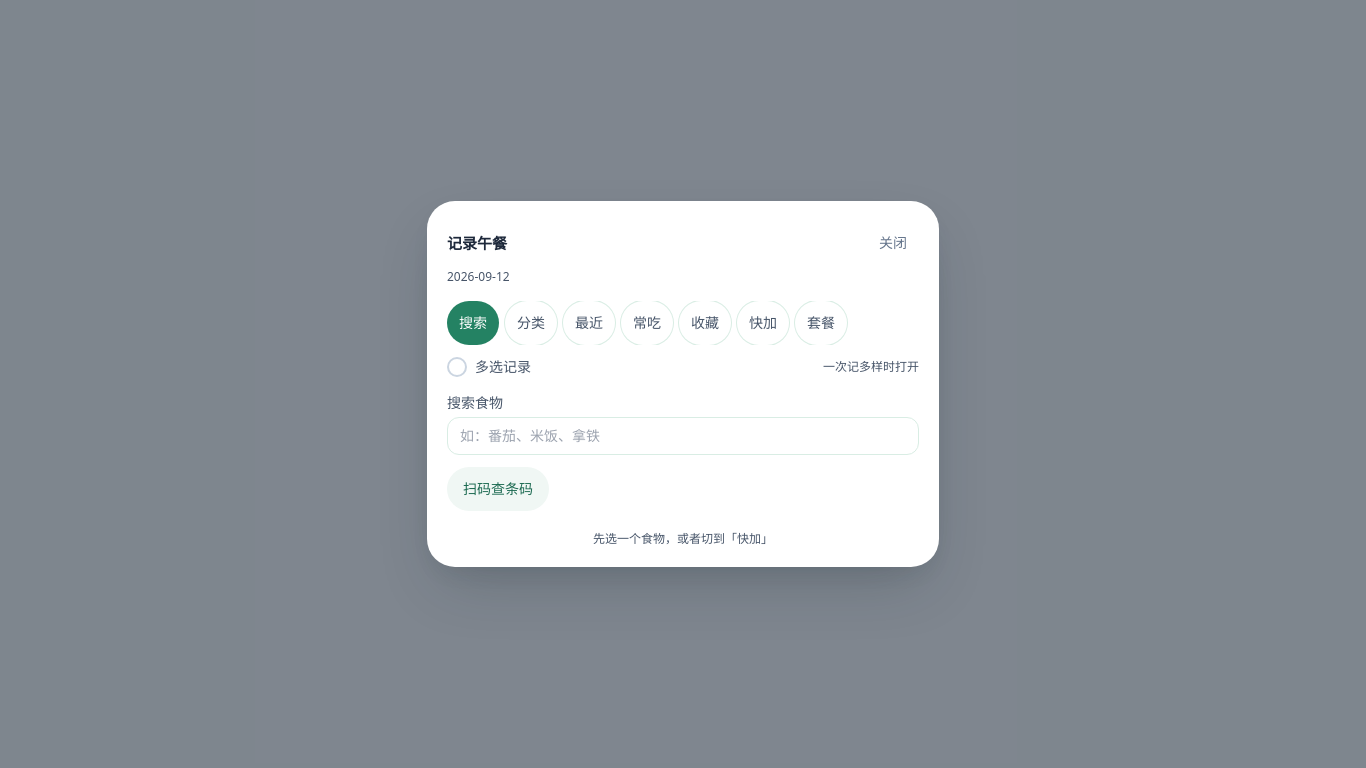
Scenario: R11.5 常吃榜 tab（AC-11.5.5） › 列表项无营养字段、无 role="meter"（日期这类频次事实不在此限）
The width and height of the screenshot is (1366, 768).
Step 1. Click the tab "常吃" → (647, 323), box [621,301,673,345]
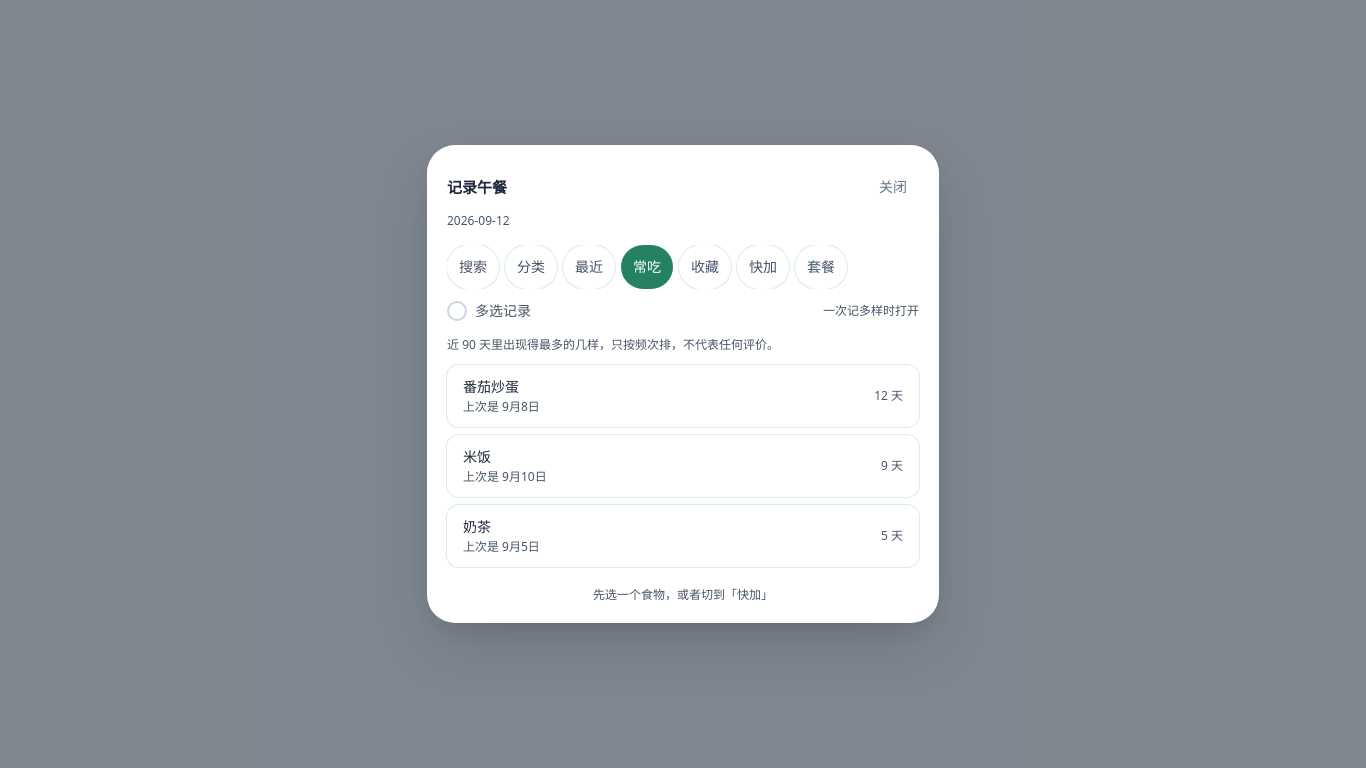
Check: the text "番茄炒蛋" is shown, box [463,377,519,396]
Check: the text "12 天" is shown, box [874,388,903,404]
Check: the text "9 天" is shown, box [881,458,903,474]
